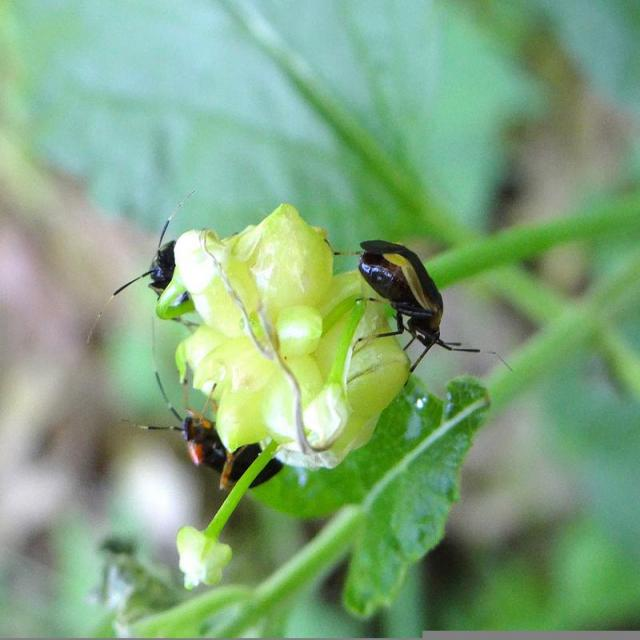Miridae-Adult-: (319, 224, 521, 390)
